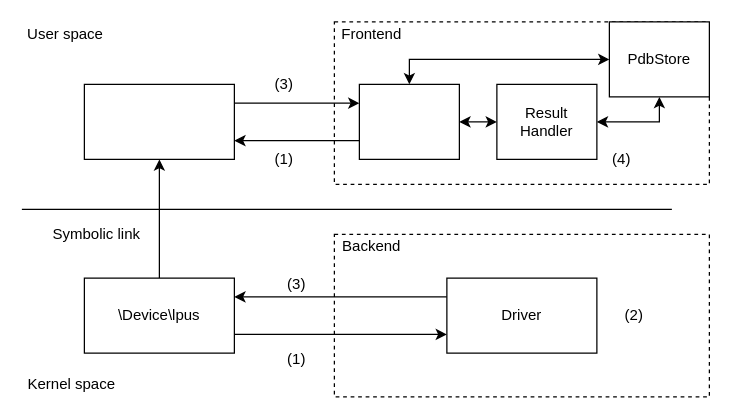
Some shapes in this 731 by 419 pixel diagram are drawn without their labels. Here are the shapes that lost their labels. From the top down, the box of each, then its label:
(83, 83, 234, 159): \DosDevice\lpus
(358, 83, 459, 159): Controller
